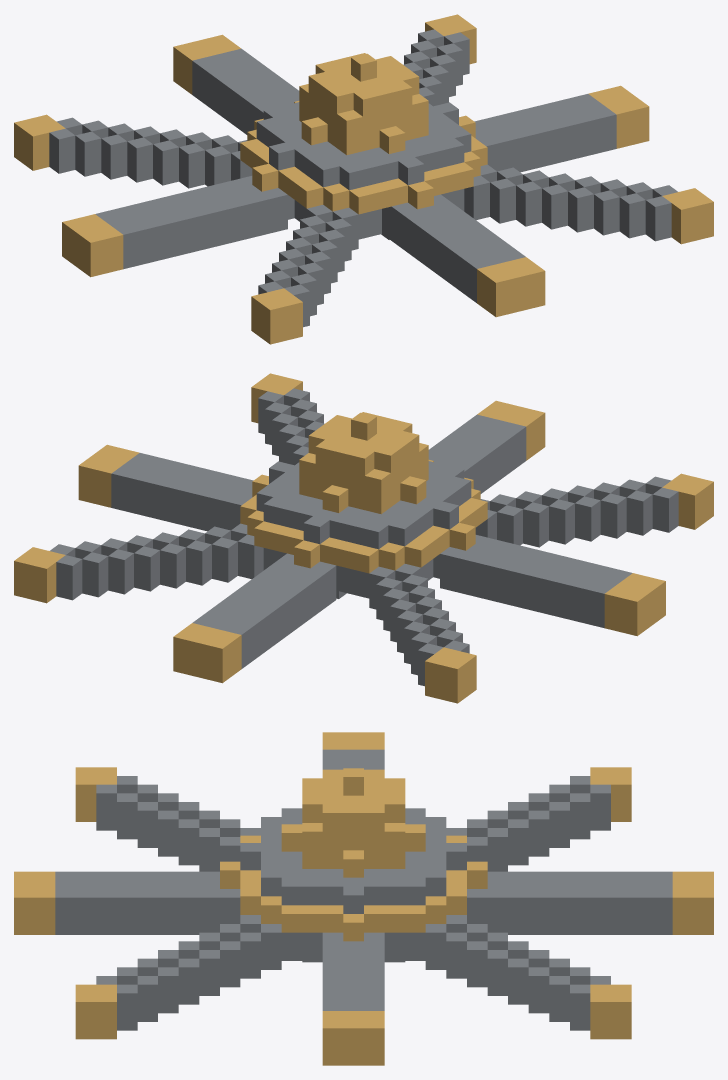
The model's file is turbine.glb.
3 renders of one model, top to bottom at view 1: azimuth 30°, elevation 25°; view 2: azimuth 150°, elevation 25°; view 3: azimuth 270°, elevation 25°, orthographic. The views are drawn at different scales.
Bounding box in the file's own units: 34 × 9 × 34.
